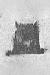O51: (5, 1, 45, 75)
